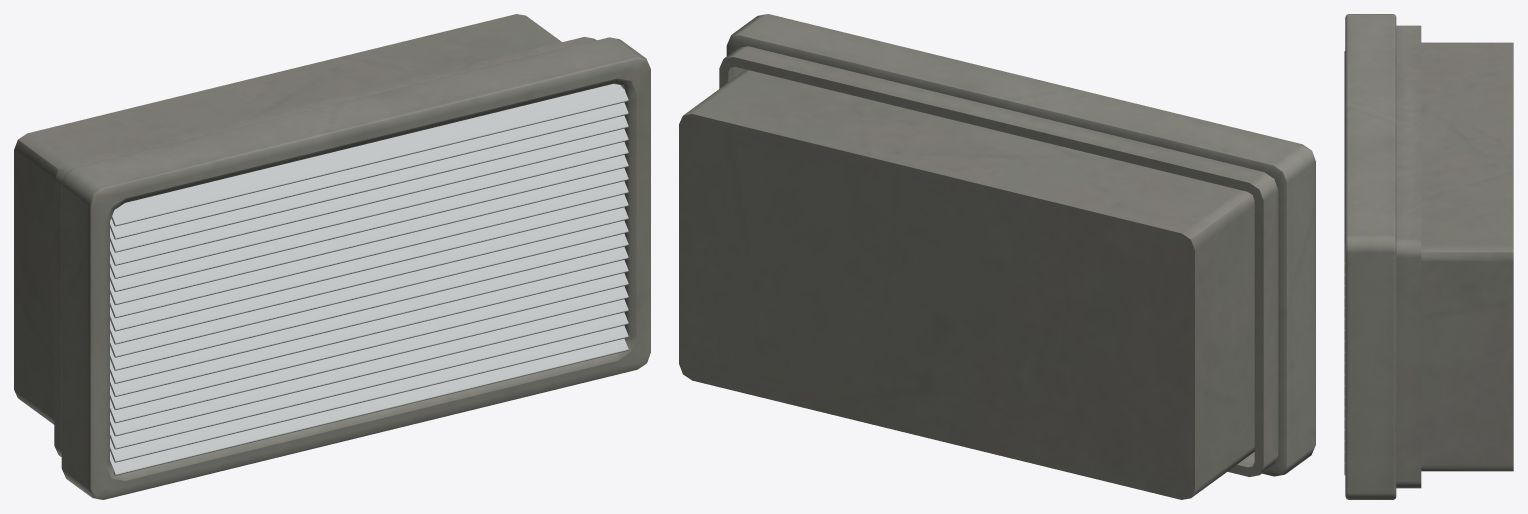
The model's file is hiii.glb.
The picture shows the model from 3 angles, left to right: view 1: azimuth 30°, elevation 25°; view 2: azimuth 150°, elevation 25°; view 3: azimuth 270°, elevation 25°; orthographic projection. The views are drawn at different scales.
Visible parts, largest first — view 1: air_duct_side_cap; view 2: air_duct_side_cap; view 3: air_duct_side_cap.
Part boxes in pixels (x1,y1,x2,y2): air_duct_side_cap: [14, 14, 650, 499]; air_duct_side_cap: [679, 14, 1315, 499]; air_duct_side_cap: [1344, 14, 1513, 499].
Bounding box in the file's own units: 2.51 × 1.34 × 0.7743.
1 material, 1 textured.
